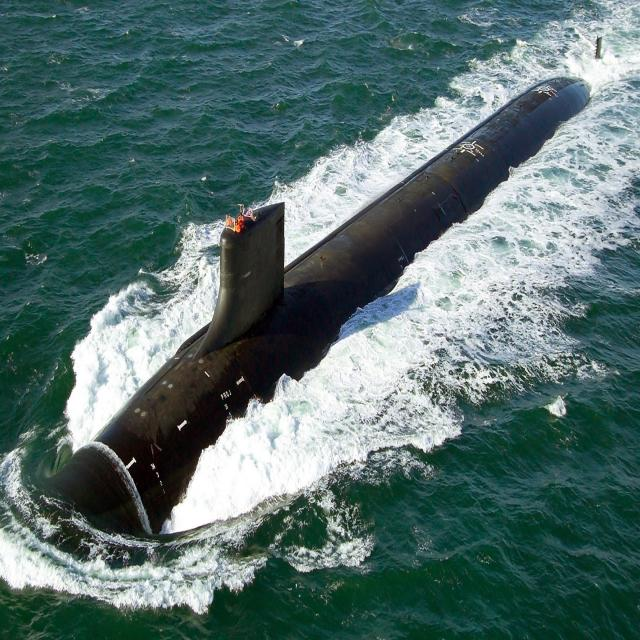submarine: (27, 35, 610, 592)
